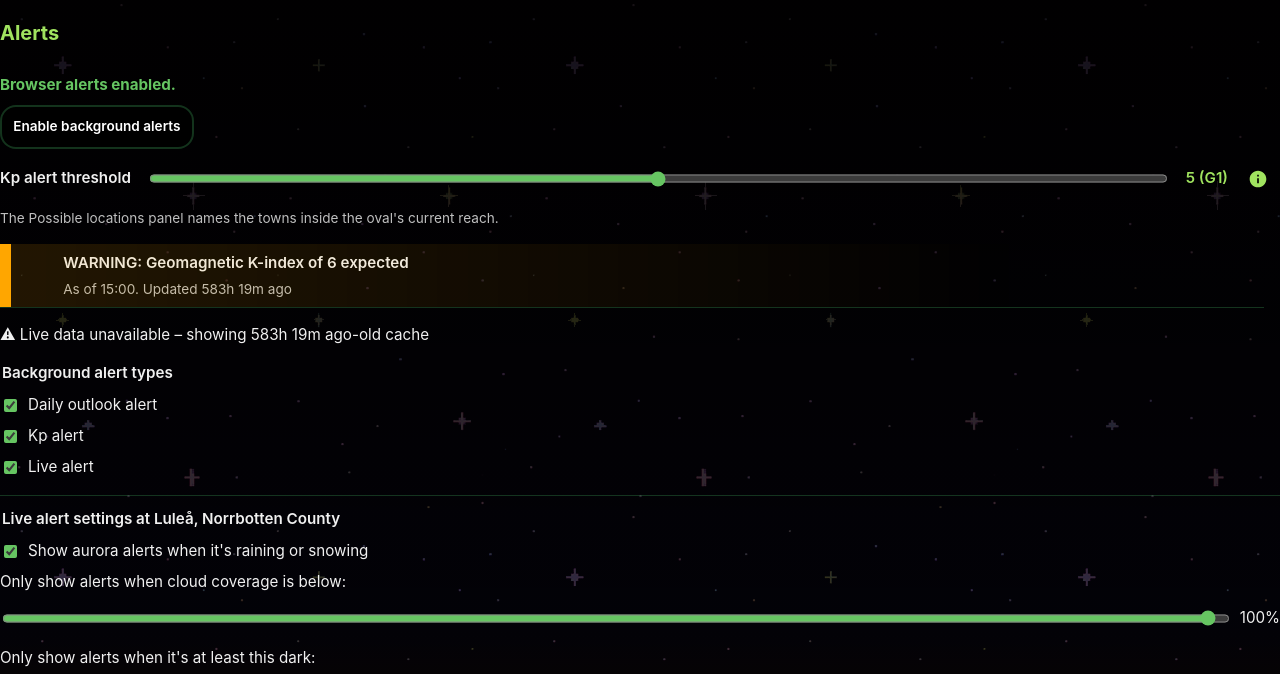
Test: background alerts (push foundation, ticket 02) › offers background enable when permission is already granted but no subscription exists (pre-feature install)
The width and height of the screenshot is (1280, 674).
Expected: the text "Browser alerts enabled." is shown, [0, 75, 176, 94]
Click the button "Enable background alerts": (97, 127) [0, 105, 194, 149]
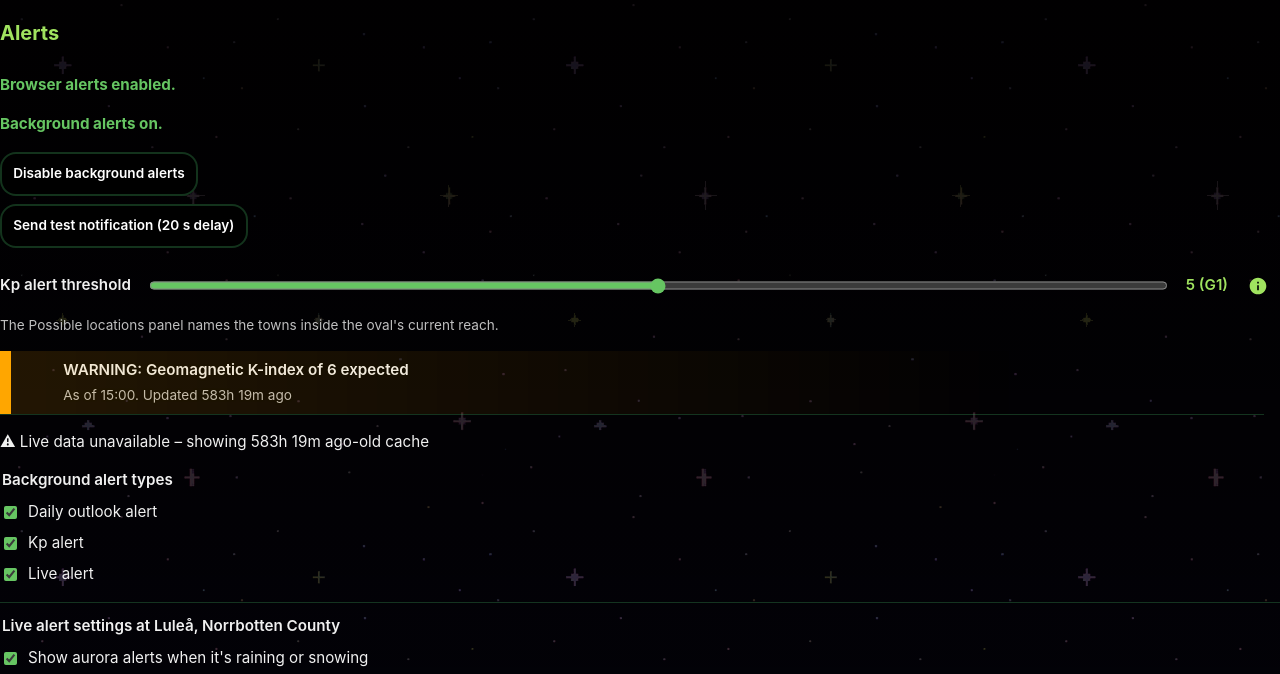
Result: the text "Background alerts on." is shown at [0, 113, 163, 136]
